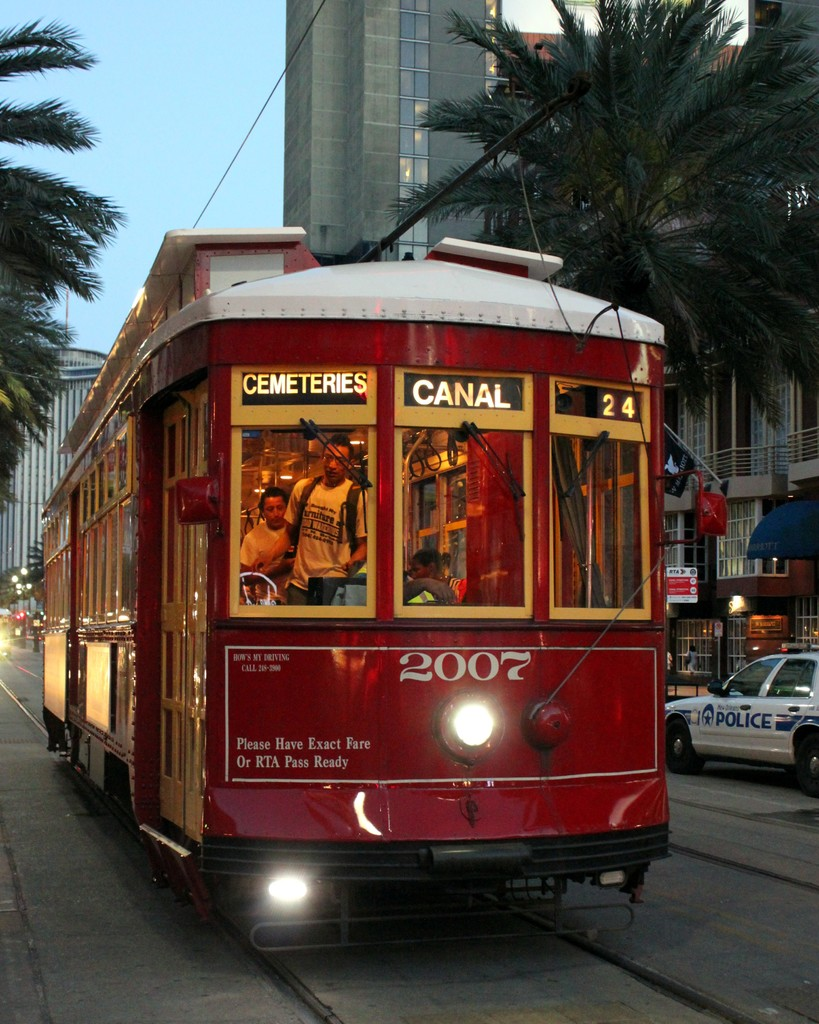Tree: (388, 0, 818, 425), (3, 19, 124, 413)
